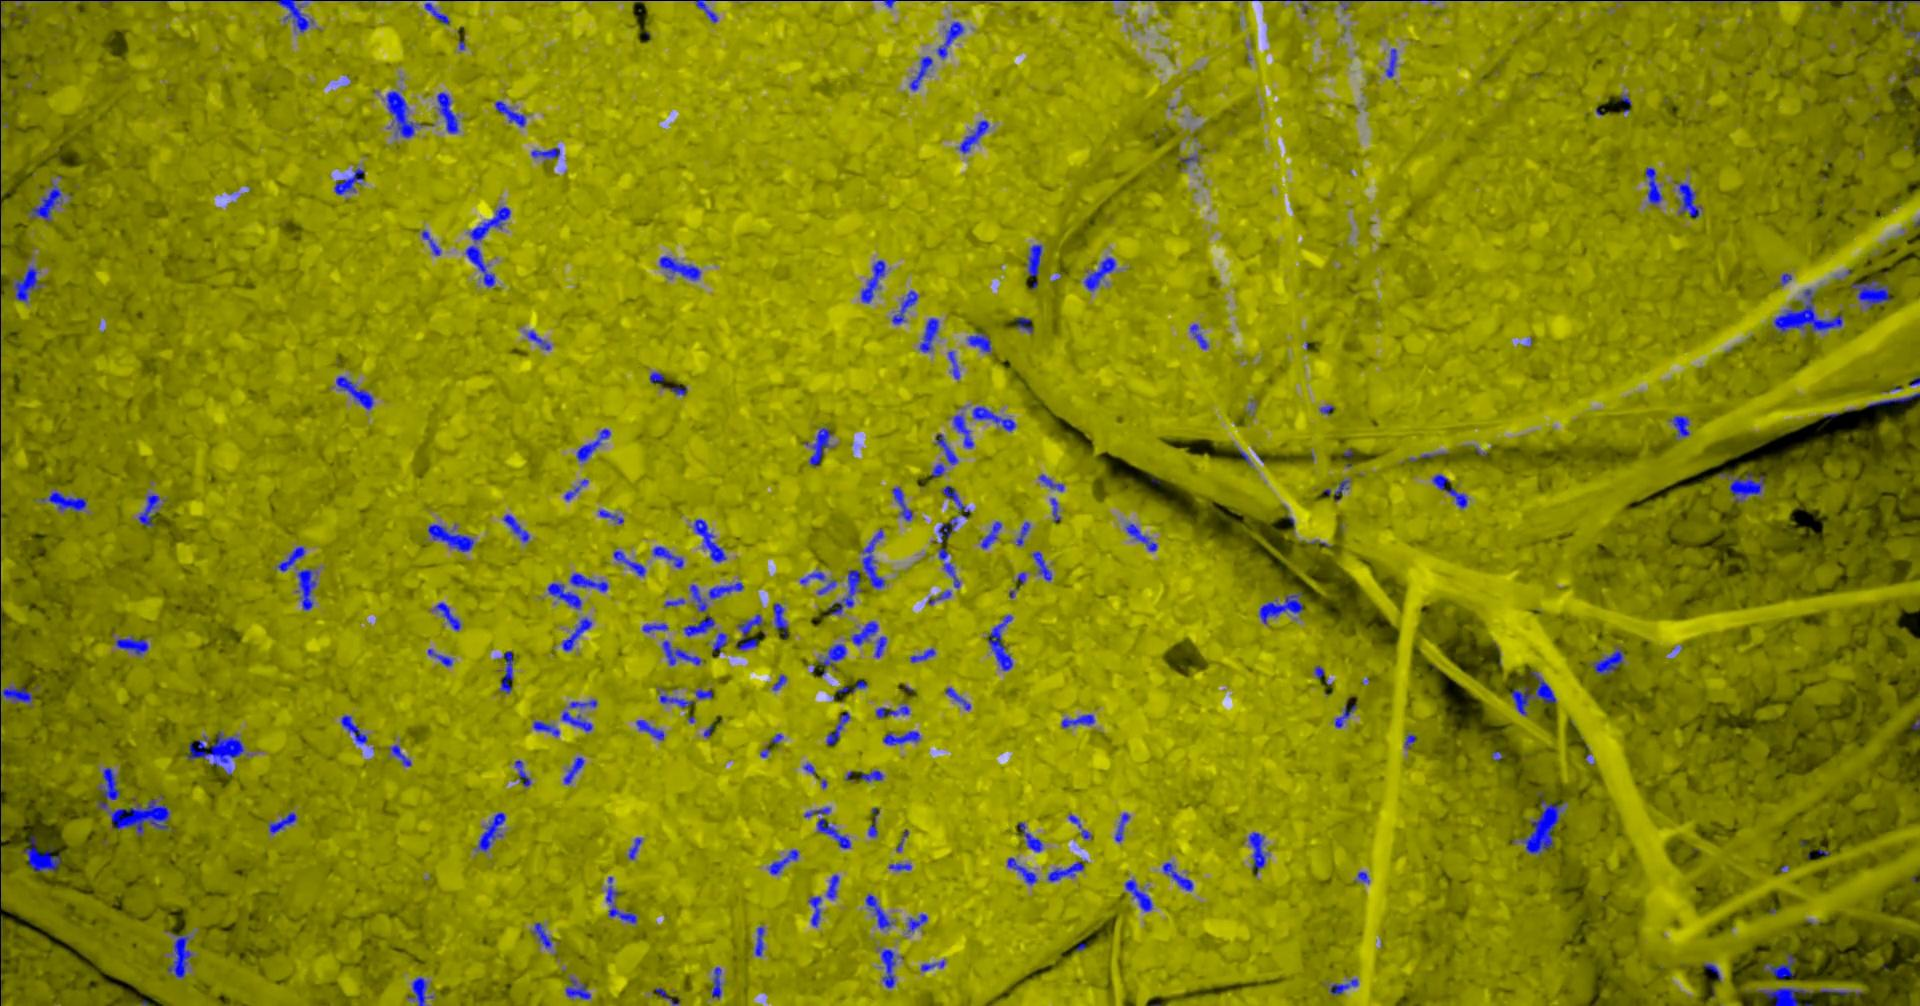ant: (463, 206, 510, 287), (1520, 791, 1564, 855), (185, 730, 248, 774), (1510, 669, 1556, 715), (803, 807, 850, 848), (386, 90, 424, 137), (825, 569, 862, 614), (936, 516, 959, 587), (604, 876, 636, 923), (985, 614, 1012, 669), (861, 528, 885, 588), (23, 835, 60, 873), (1718, 471, 1764, 502), (693, 520, 726, 561), (1258, 592, 1302, 622), (335, 375, 373, 409), (427, 523, 472, 551), (273, 0, 312, 32), (1431, 474, 1467, 508), (29, 183, 61, 221), (476, 812, 505, 851), (11, 265, 42, 302), (1850, 279, 1890, 307), (168, 934, 193, 977), (577, 428, 610, 461), (1083, 257, 1115, 290), (860, 260, 884, 304), (971, 406, 1015, 431), (865, 893, 894, 929), (936, 22, 964, 58), (735, 614, 763, 650), (1755, 987, 1812, 1005), (658, 255, 700, 279), (561, 617, 590, 652), (41, 490, 86, 512), (662, 640, 700, 666), (959, 119, 988, 152), (436, 91, 458, 133), (808, 427, 832, 466), (941, 485, 970, 517), (817, 643, 844, 676), (1124, 878, 1152, 911), (547, 582, 582, 608), (295, 568, 316, 610), (1125, 522, 1156, 551), (1677, 182, 1702, 218), (1591, 647, 1623, 674), (891, 290, 917, 324), (1162, 862, 1192, 890), (1006, 857, 1037, 884), (1763, 951, 1794, 978), (334, 166, 363, 194), (1023, 244, 1041, 290), (138, 494, 164, 526), (613, 550, 645, 575), (825, 711, 850, 744), (909, 56, 932, 90), (502, 514, 530, 542), (494, 100, 524, 126), (1017, 821, 1043, 851), (1248, 832, 1266, 875), (879, 949, 898, 988), (952, 412, 973, 448), (1048, 861, 1084, 882), (433, 602, 460, 630), (340, 715, 367, 743), (768, 848, 797, 874), (1867, 392, 1919, 406), (569, 572, 607, 591), (406, 977, 432, 1005), (935, 433, 957, 464), (651, 546, 683, 568), (0, 685, 32, 706), (1644, 166, 1662, 205), (277, 546, 303, 572), (707, 580, 743, 600), (850, 621, 877, 645), (891, 486, 912, 520), (267, 810, 296, 833), (919, 318, 938, 352), (683, 616, 714, 636), (561, 710, 592, 730), (424, 0, 450, 24), (116, 636, 147, 655), (635, 719, 663, 741), (945, 687, 970, 710), (563, 756, 583, 784), (1032, 551, 1051, 580), (563, 478, 587, 500), (1068, 814, 1091, 838), (1323, 479, 1349, 500), (565, 977, 590, 998), (980, 521, 1001, 547), (772, 602, 787, 636), (875, 702, 909, 718), (1335, 702, 1356, 727), (531, 922, 551, 948), (883, 730, 919, 744), (1189, 323, 1208, 349), (1869, 0, 1919, 10), (695, 0, 717, 22), (500, 650, 512, 694), (389, 744, 411, 766), (526, 330, 550, 351), (659, 694, 693, 708), (690, 584, 707, 611), (1330, 978, 1357, 995), (966, 332, 990, 351), (422, 230, 439, 255), (1037, 474, 1063, 492), (427, 648, 452, 666), (654, 987, 679, 1005), (1114, 812, 1129, 841), (1669, 415, 1689, 437), (836, 680, 866, 694), (808, 895, 822, 926), (1062, 714, 1095, 727), (532, 720, 559, 735), (514, 760, 530, 786), (909, 647, 935, 662), (907, 913, 927, 932), (710, 967, 721, 998), (598, 509, 623, 523), (825, 874, 839, 899), (928, 589, 951, 605), (867, 807, 879, 837), (1015, 521, 1029, 545), (711, 633, 726, 654), (947, 351, 959, 379), (754, 926, 764, 956), (858, 768, 883, 781), (627, 837, 641, 859), (1385, 48, 1396, 77), (530, 147, 559, 158), (1015, 316, 1032, 333), (1703, 963, 1719, 981), (799, 572, 824, 583), (817, 579, 836, 594), (872, 636, 886, 657), (1049, 497, 1060, 521), (919, 959, 943, 970), (641, 622, 667, 633), (568, 699, 596, 708), (1818, 989, 1862, 995), (662, 386, 686, 395), (772, 674, 786, 690), (930, 464, 943, 478), (663, 598, 684, 607), (695, 688, 712, 699), (649, 371, 663, 384), (888, 862, 910, 870), (1404, 733, 1415, 748), (1356, 871, 1369, 882)
